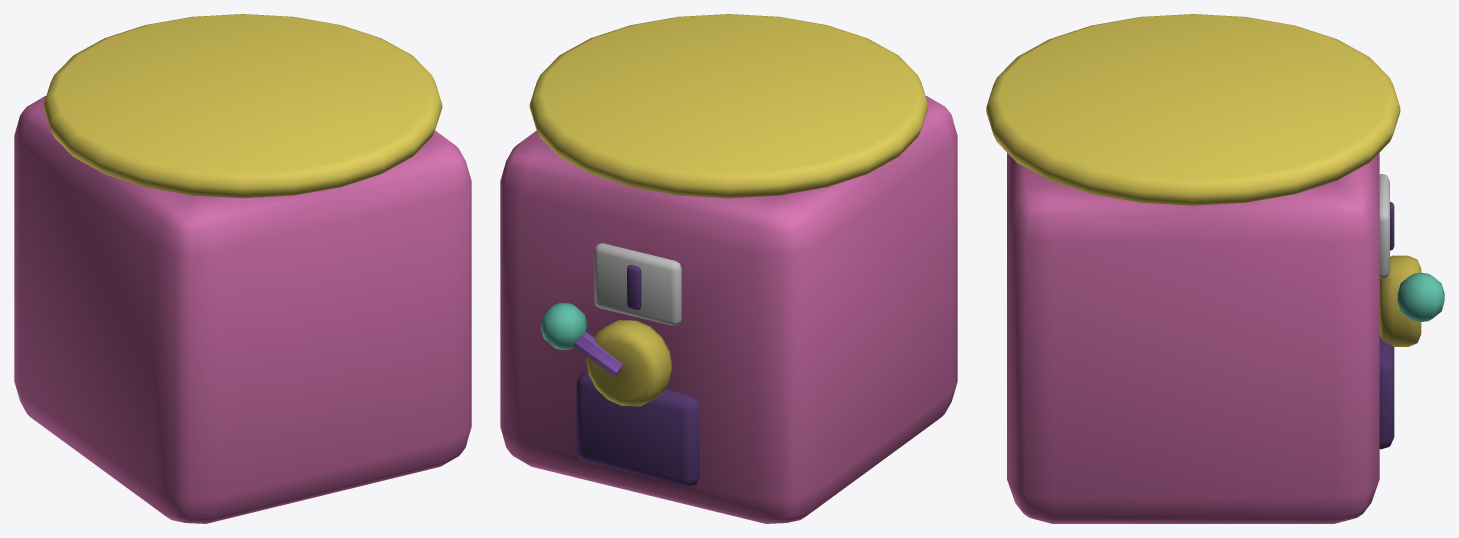
Rendered from capsule_machine.glb.
3 views of the same model, side by side, from view 1: azimuth 30°, elevation 25°; view 2: azimuth 150°, elevation 25°; view 3: azimuth 270°, elevation 25° (orthographic). The views are drawn at different scales.
Visible parts, largest first — view 1: capsule_machine; view 2: capsule_machine; view 3: capsule_machine.
Boxes of the visible parts, left/top/right/bottom form: capsule_machine: left=14, top=14, right=471, bottom=523; capsule_machine: left=500, top=14, right=957, bottom=523; capsule_machine: left=986, top=14, right=1444, bottom=523.
Size of the model in its own units: 2 by 1.94 by 2.21.
